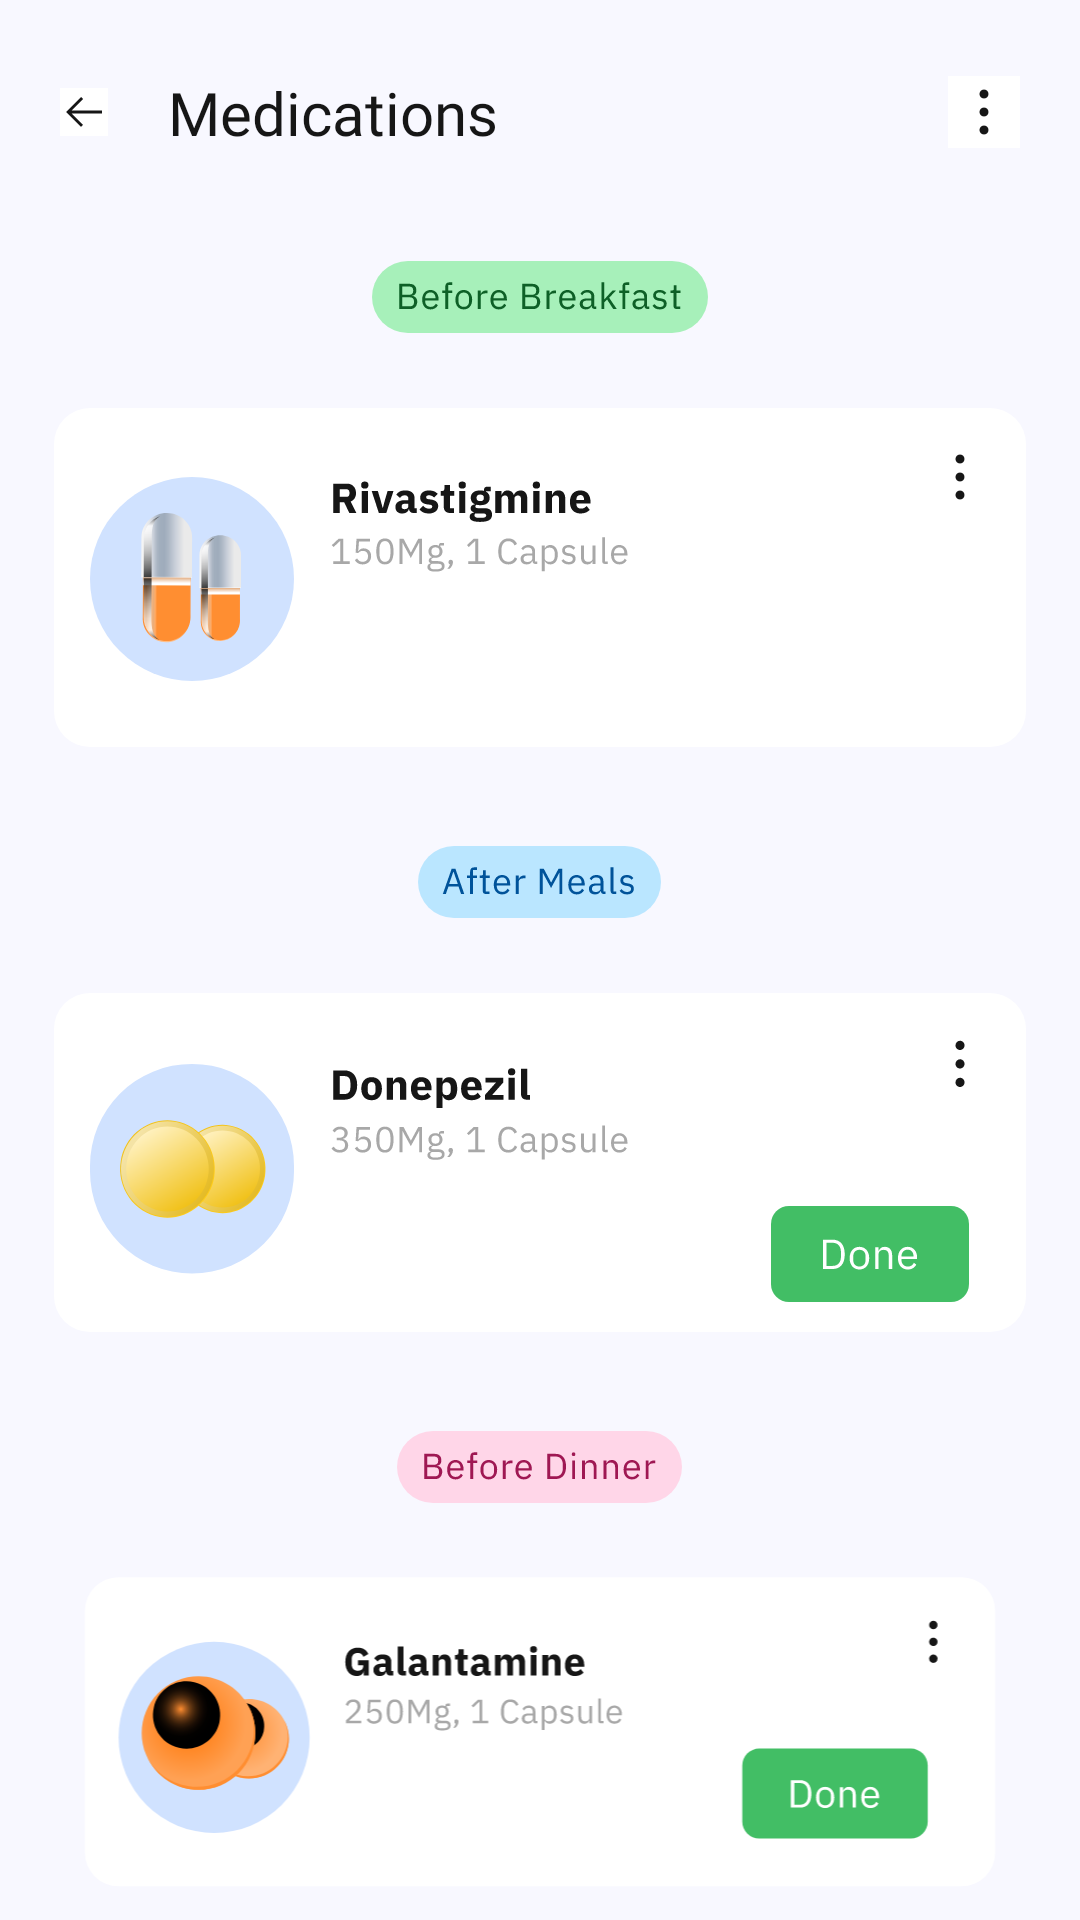

Point at icon controls on the screen. Image size 1080px x 1920px, points as (x=x, y=y).
arrow left: (x=84, y=112)
three points: (x=984, y=112)
